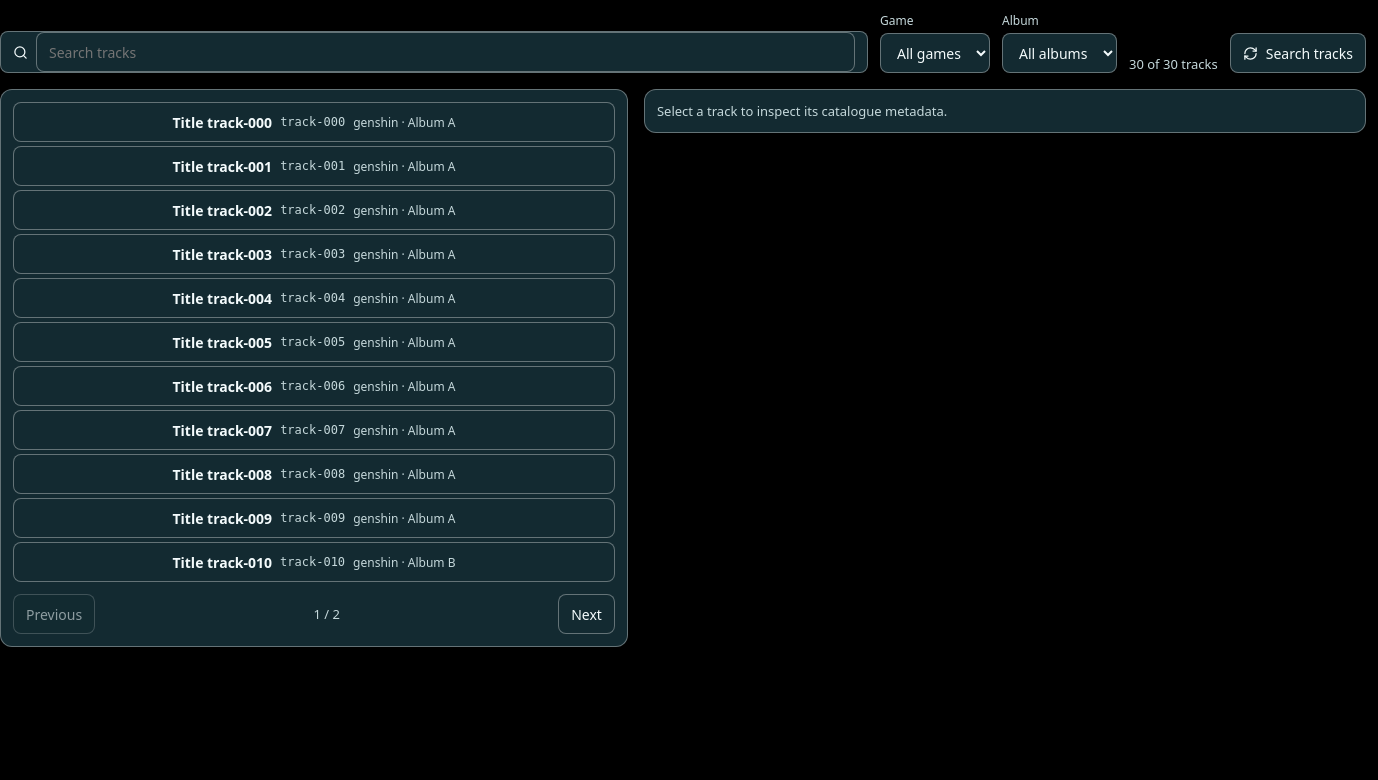
Test: CatalogueTrackBrowser › filters by game and album and bounds the rendered page
expect the text "1 / 2" is shown: met, box [313,605,340,623]
Click the button "Next".
click(587, 614)  # box [558,594,615,634]
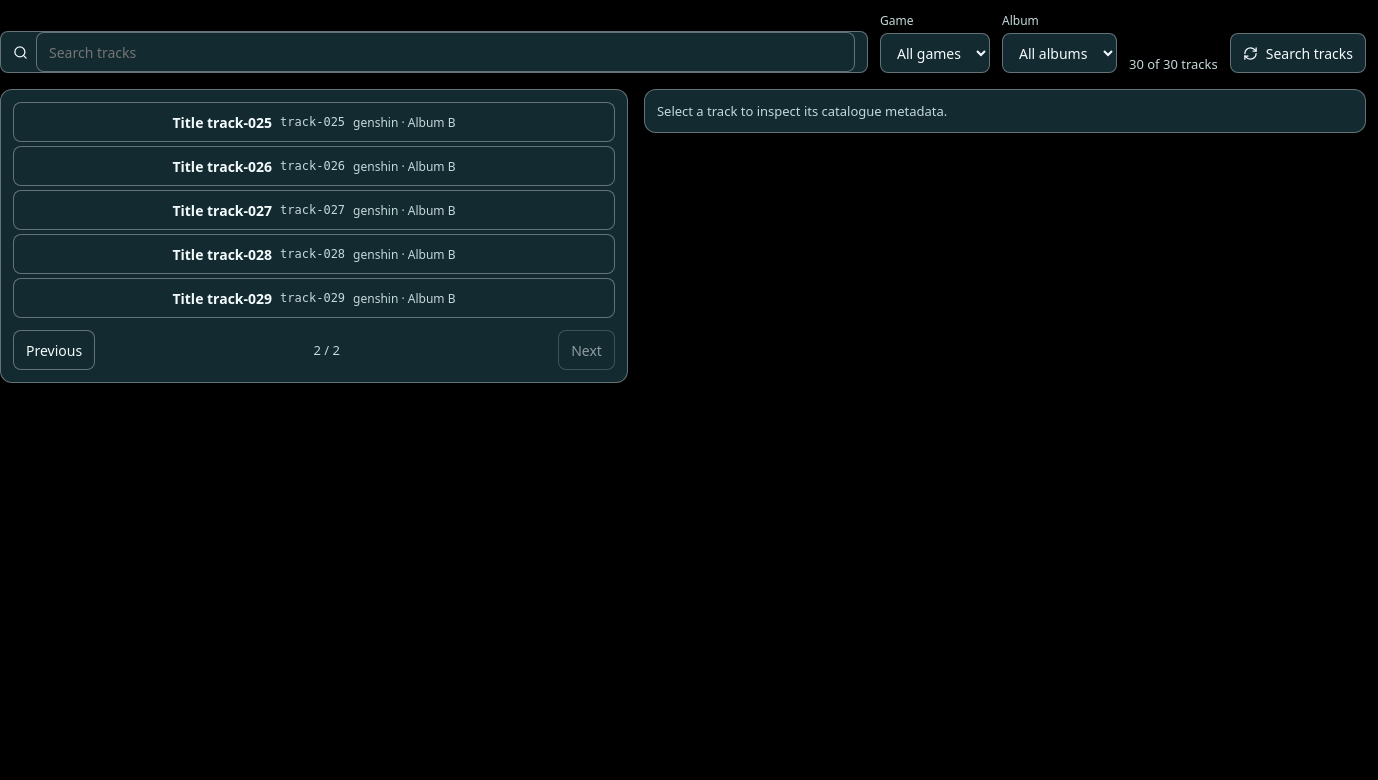
Click the button "Previous".
click(54, 350)  # box [13,330,95,370]
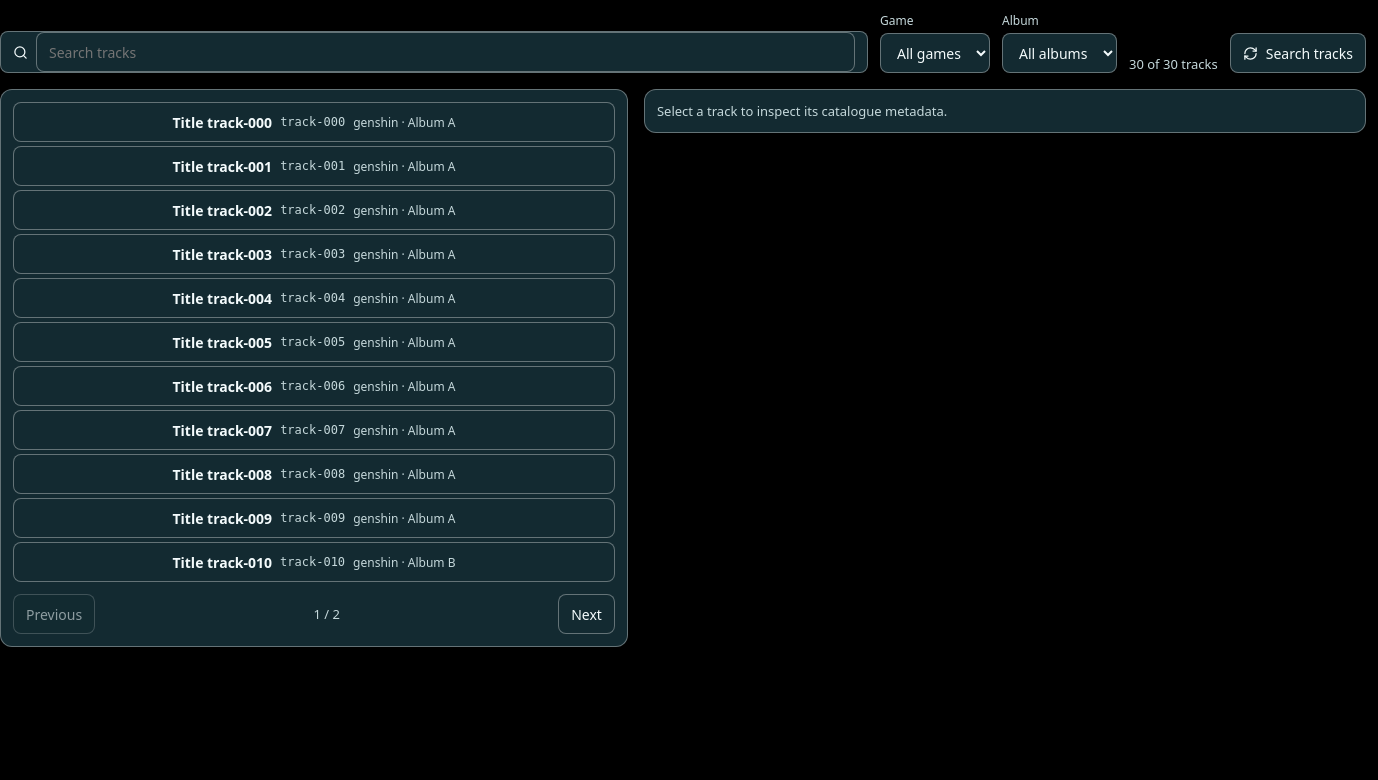
Select "Album B" in the dropdown labelled "Album" at (1060, 53), box [1002,33,1117,73]
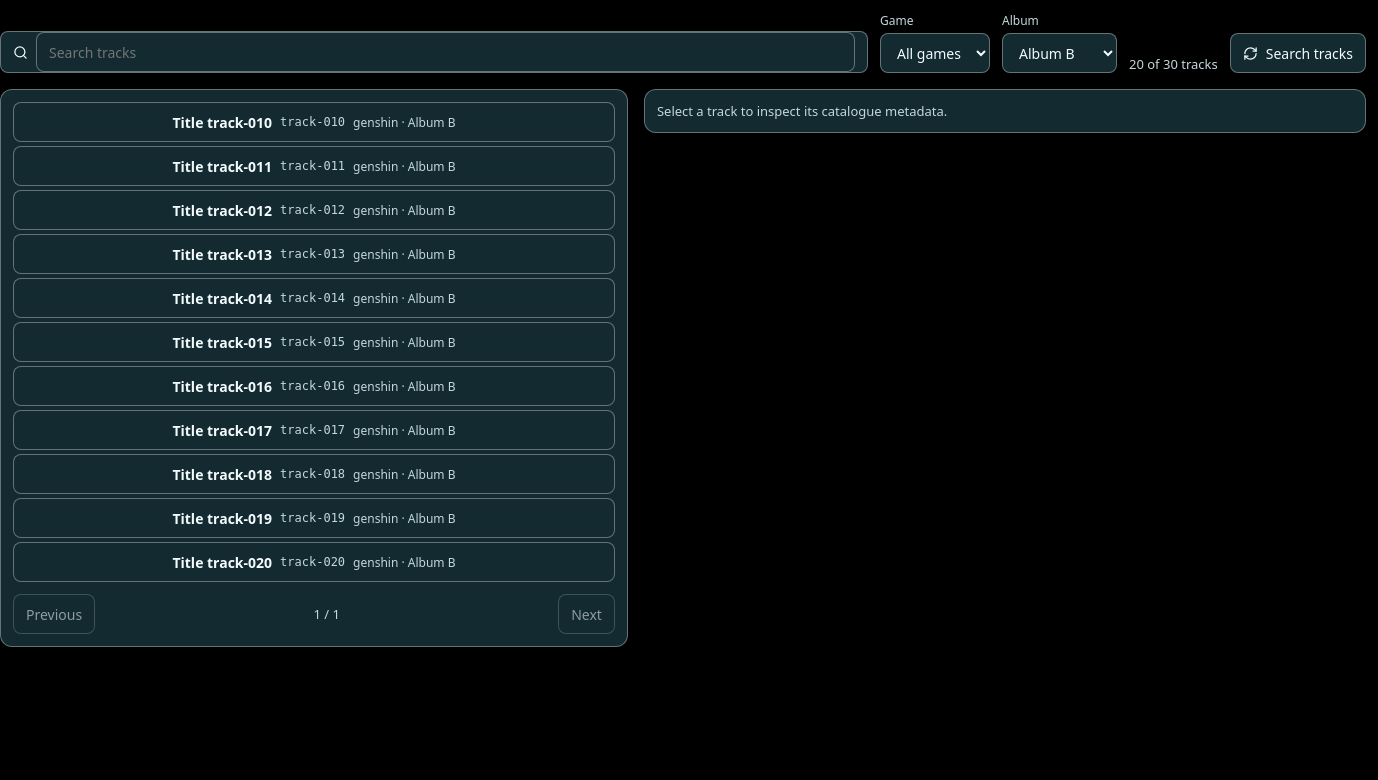
expect the text "1 / 1" is shown: met, box [313,605,340,623]
Select "All albums" in the dropdown labelled "Album" at (1060, 53), box [1002,33,1117,73]
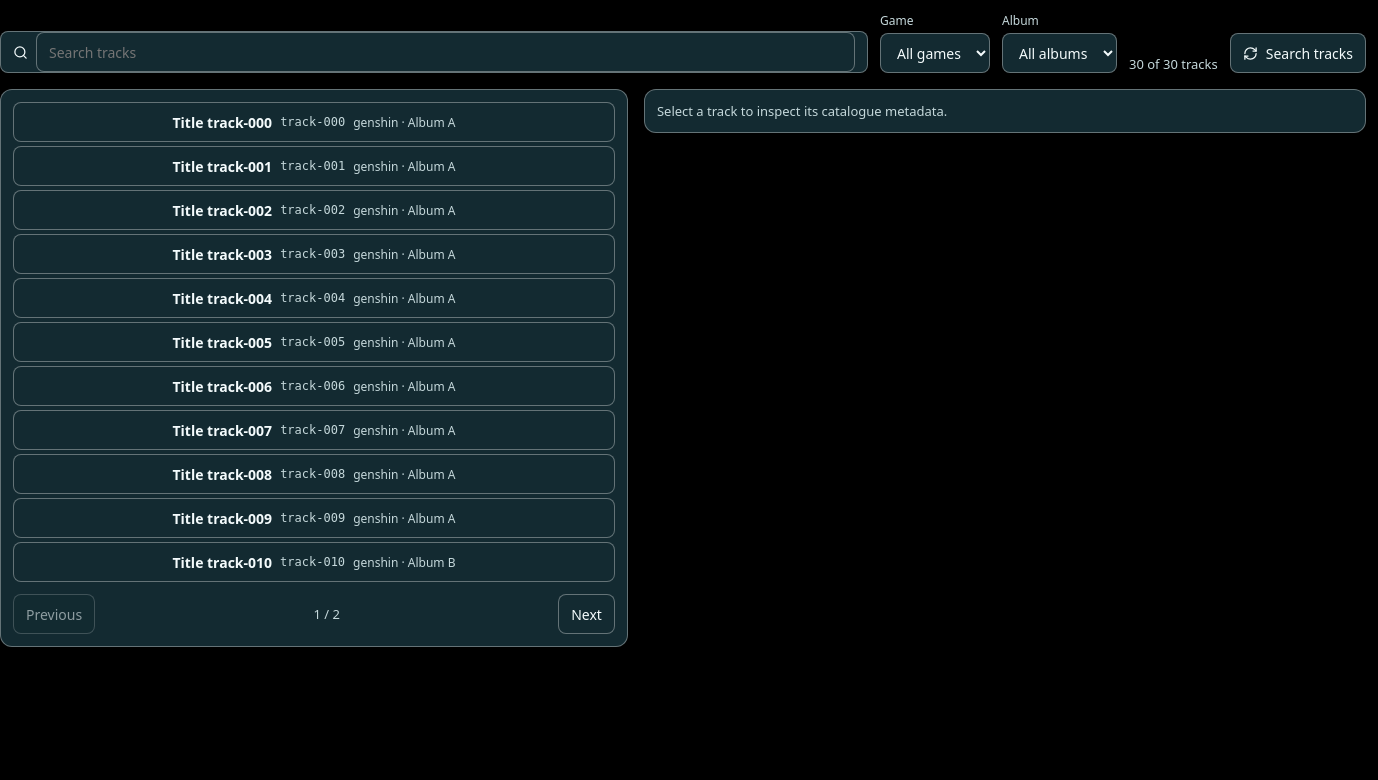
Select "zzz" in the dropdown labelled "Game" at (935, 53), box [880,33,990,73]
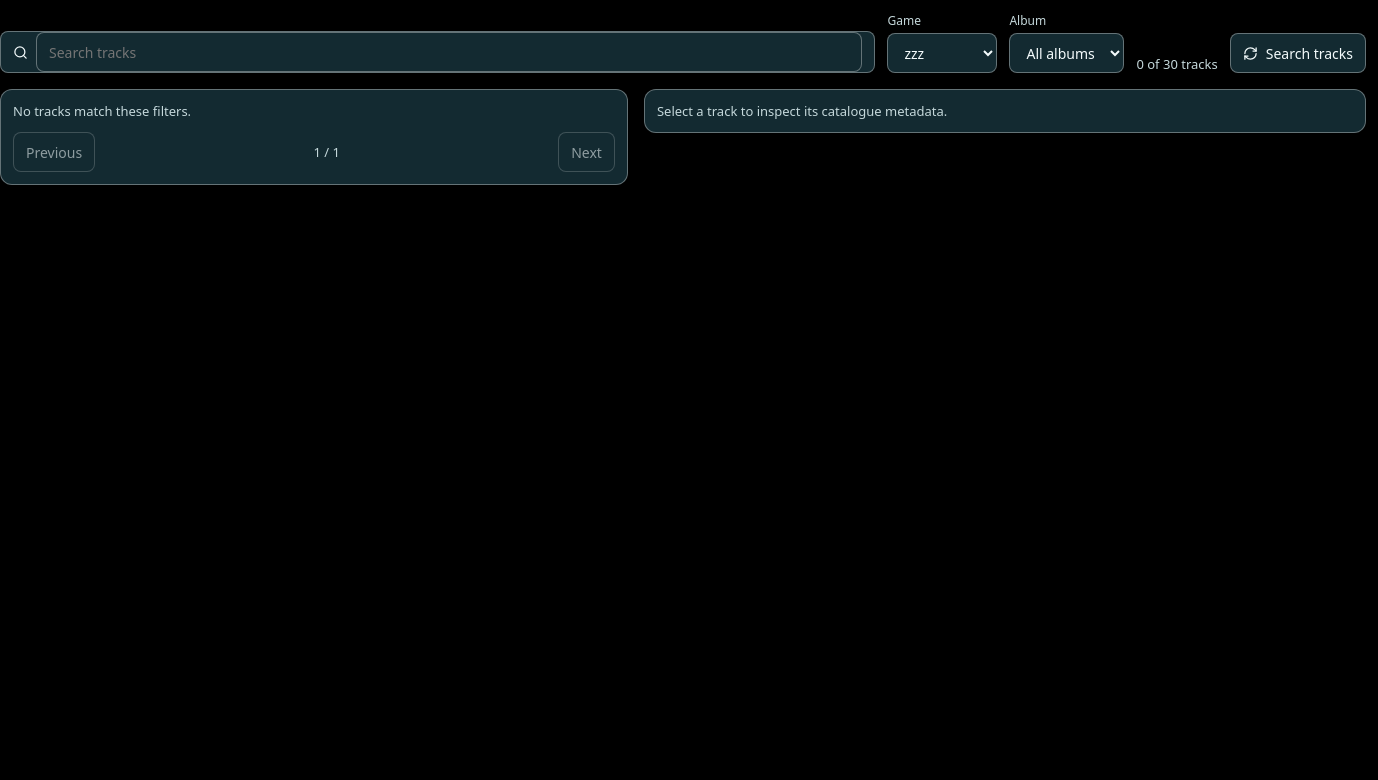
expect the text "No tracks match these filters." is shown: met, box [13,102,191,120]
